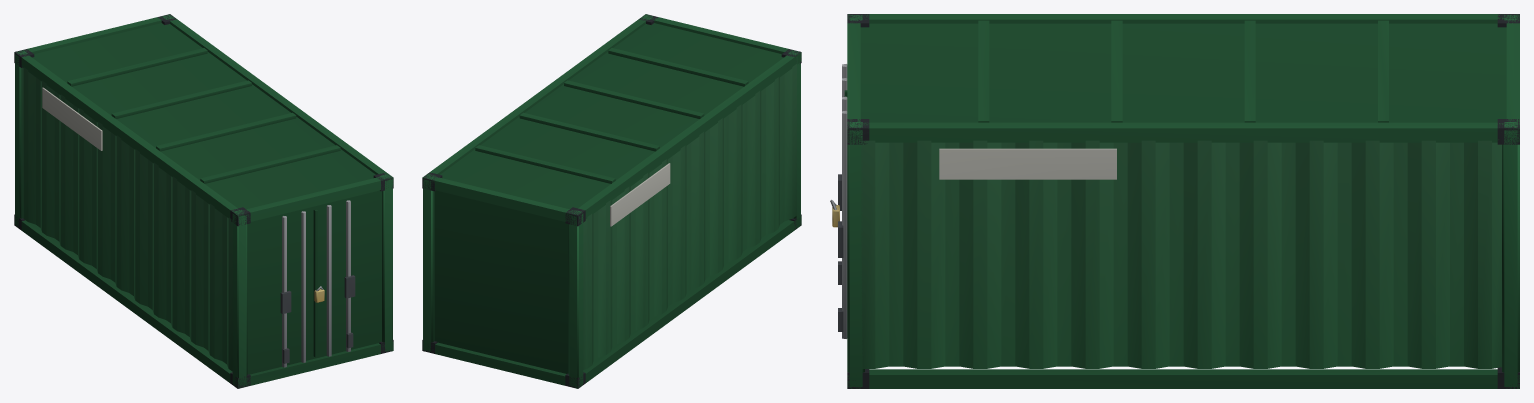
Rendered from contenedor_20ft_verde.glb.
The picture shows the model from 3 angles, left to right: view 1: azimuth 30°, elevation 25°; view 2: azimuth 150°, elevation 25°; view 3: azimuth 270°, elevation 25°; orthographic projection. The views are drawn at different scales.
Parts seen in each view (by area): view 1: contenedor_20ft_verde; view 2: contenedor_20ft_verde; view 3: contenedor_20ft_verde.
Boxes of the visible parts, x1,y1,x2,y2 form: contenedor_20ft_verde: (14,14,393,388); contenedor_20ft_verde: (422,14,801,388); contenedor_20ft_verde: (830,14,1519,388).
Size of the model in its own units: 2.52 by 2.6 by 6.22.
